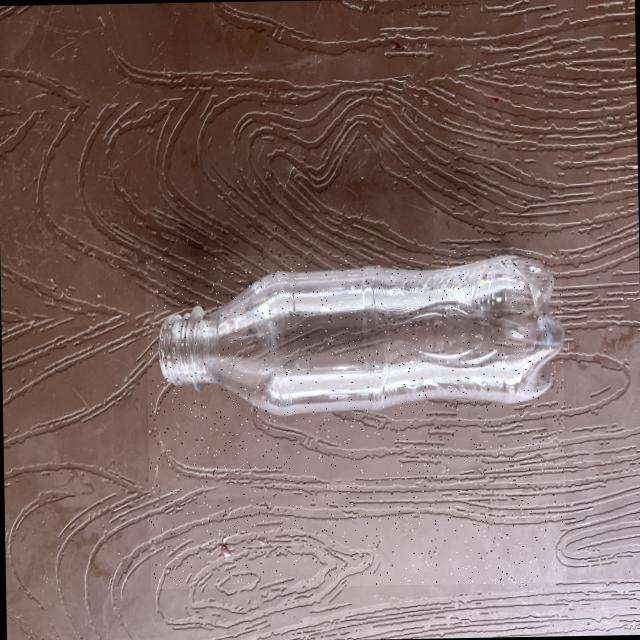PET_ClearBottle: (144, 250, 566, 589)
